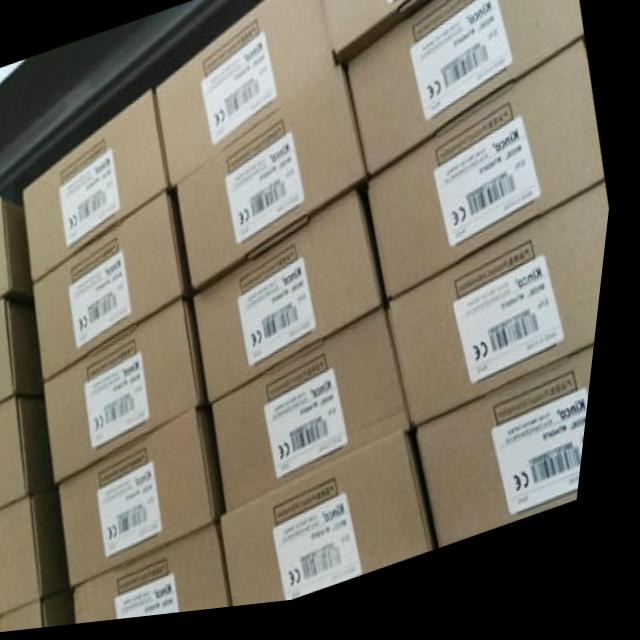box: (371, 49, 610, 309), (394, 197, 615, 437), (345, 0, 586, 188), (182, 73, 374, 296), (223, 313, 424, 516), (202, 197, 394, 408), (233, 441, 449, 614), (425, 362, 603, 558), (158, 0, 339, 191), (40, 194, 201, 385), (69, 411, 240, 589), (54, 305, 221, 487), (27, 95, 175, 287), (90, 527, 245, 627), (0, 496, 85, 615), (322, 0, 444, 74), (0, 398, 67, 517), (0, 298, 53, 407), (0, 198, 41, 308), (12, 591, 91, 634)
